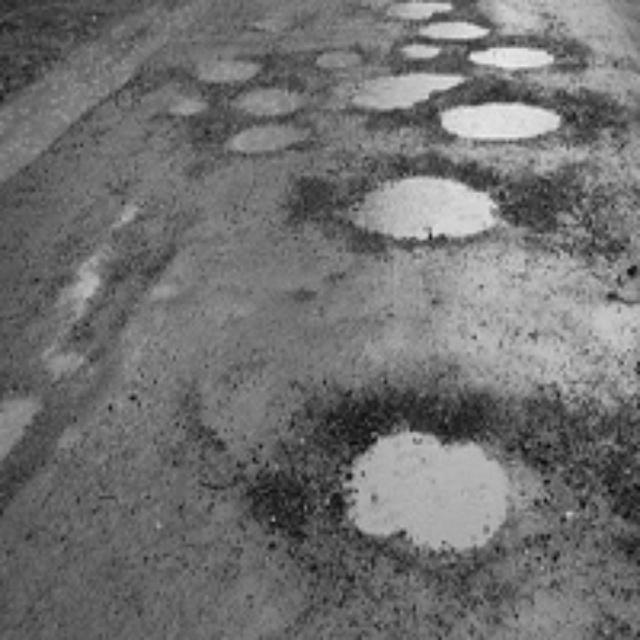Pothole: (335, 397, 545, 561), (351, 160, 515, 252), (441, 99, 564, 149), (414, 4, 498, 49), (480, 39, 565, 79), (235, 120, 292, 164), (304, 40, 369, 74), (216, 57, 274, 89), (240, 82, 300, 112), (161, 92, 216, 124), (396, 37, 444, 62)
